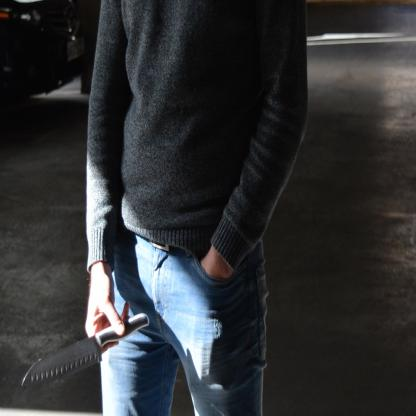knife: (16, 304, 151, 392)
